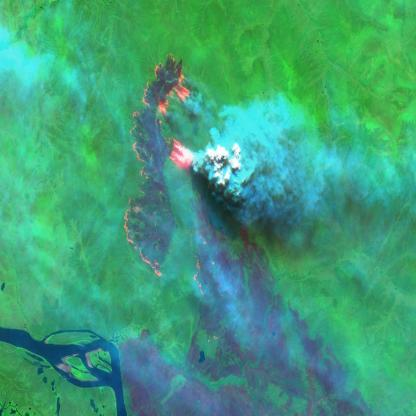fire: (118, 50, 210, 298)
